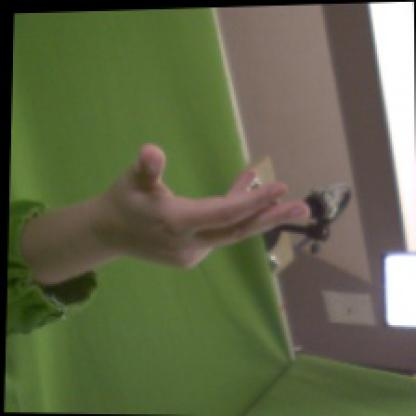Hand: (96, 145, 309, 271)
